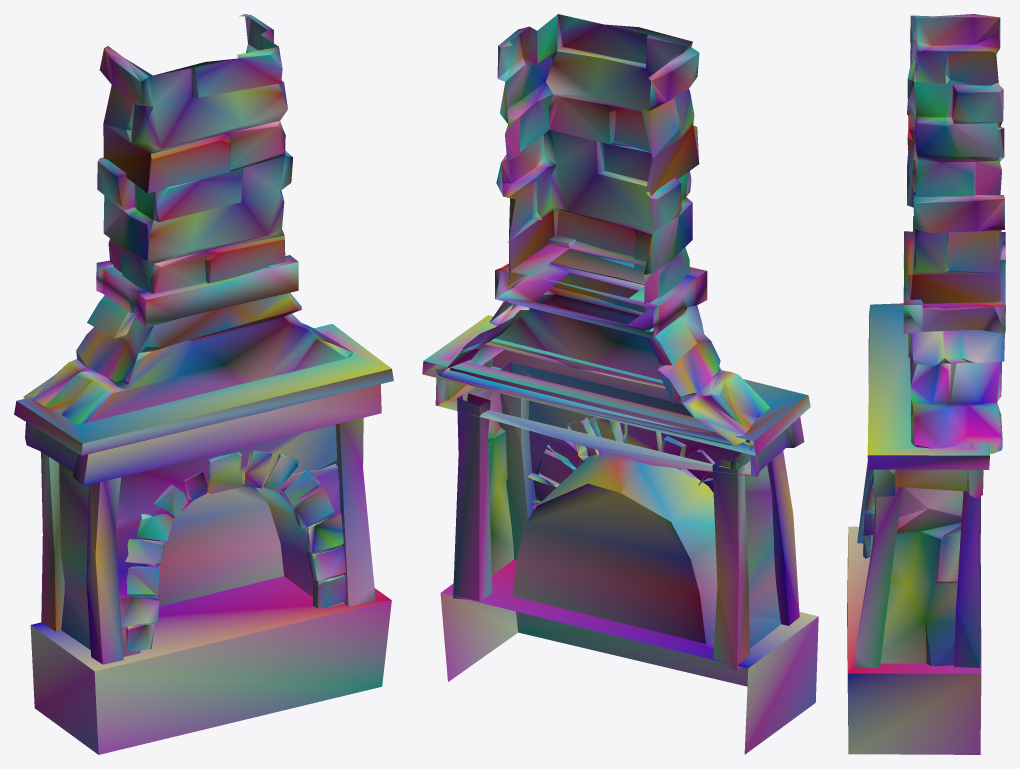
The model's file is Chimney.fbx.
3 views of the same model, side by side, from view 1: azimuth 30°, elevation 25°; view 2: azimuth 150°, elevation 25°; view 3: azimuth 270°, elevation 25° (orthographic). The views are drawn at different scales.
Parts seen in each view (by area): view 1: SM_Fireplace_fireplace_Fireplace_0; view 2: SM_Fireplace_fireplace_Fireplace_0; view 3: SM_Fireplace_fireplace_Fireplace_0.
Part boxes in pixels (left/top/right/bottom): SM_Fireplace_fireplace_Fireplace_0: left=14, top=14, right=393, bottom=754; SM_Fireplace_fireplace_Fireplace_0: left=422, top=14, right=818, bottom=754; SM_Fireplace_fireplace_Fireplace_0: left=847, top=14, right=1005, bottom=754.
Size of the model in its own units: 201 by 384 by 86.03.
